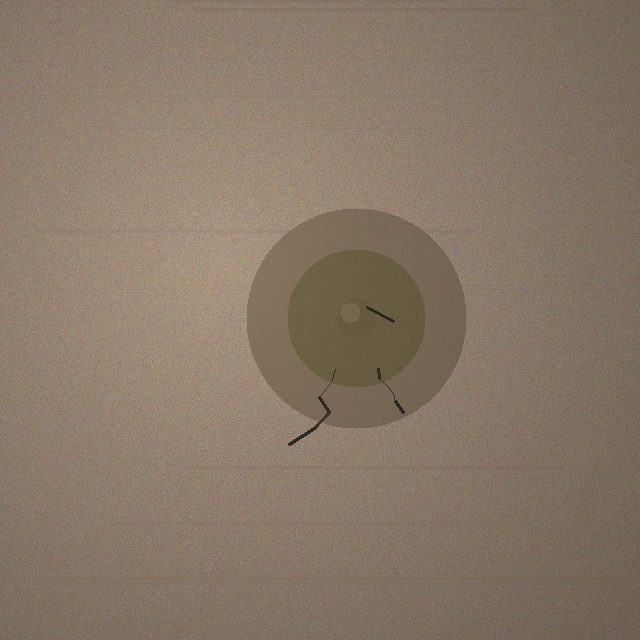crack: (246, 208, 466, 428)
